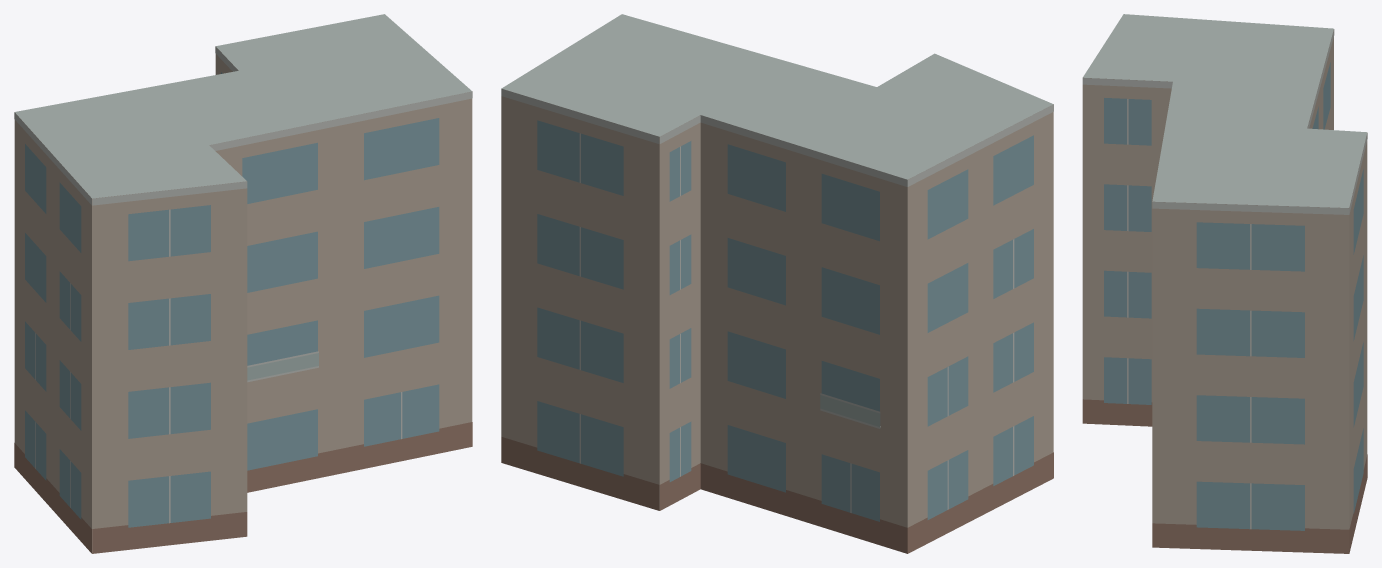
The model's file is survey-upis-32466387.glb.
The picture shows the model from 3 angles, left to right: view 1: azimuth 30°, elevation 25°; view 2: azimuth 150°, elevation 25°; view 3: azimuth 270°, elevation 25°; orthographic projection. The views are drawn at different scales.
Visible parts, largest first — view 1: survey-upis-32466387.tmp; view 2: survey-upis-32466387.tmp; view 3: survey-upis-32466387.tmp.
Part boxes in pixels (x1,y1,x2,y2): survey-upis-32466387.tmp: [14, 14, 472, 553]; survey-upis-32466387.tmp: [501, 14, 1053, 553]; survey-upis-32466387.tmp: [1082, 14, 1367, 553].
Bounding box in the file's own units: 14.69 × 12.2 × 9.12.
